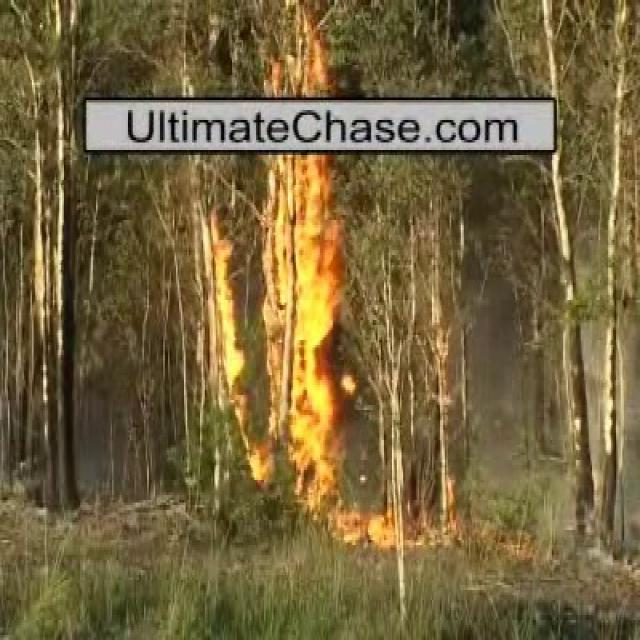fire: (259, 168, 333, 474)
